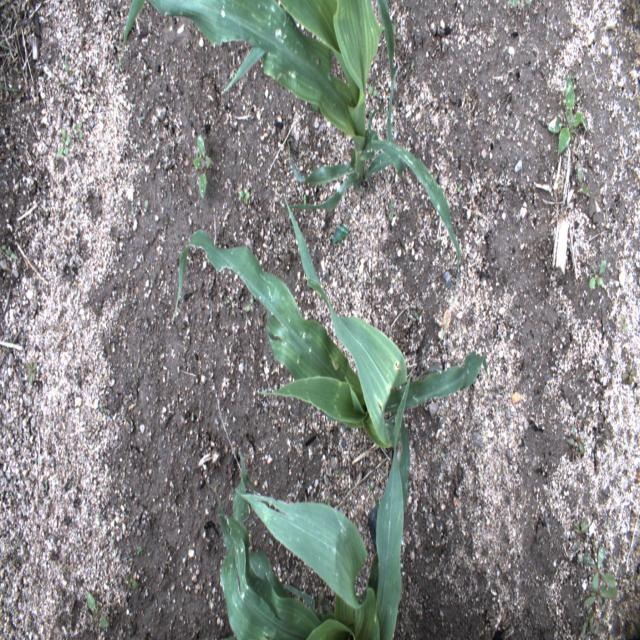crop: (170, 213, 496, 639), (117, 0, 460, 288), (219, 454, 379, 638)
weed: (544, 70, 589, 166), (581, 539, 621, 613), (188, 130, 218, 201), (81, 586, 111, 634), (0, 27, 18, 99), (587, 258, 614, 300), (562, 419, 586, 466), (571, 506, 591, 557), (501, 1, 536, 28), (575, 166, 595, 202), (54, 129, 76, 161), (618, 353, 637, 388), (126, 553, 140, 597), (330, 223, 353, 247), (577, 619, 605, 638), (235, 184, 255, 210), (24, 352, 38, 389), (1, 241, 22, 264), (62, 47, 74, 83), (384, 199, 398, 227), (450, 174, 464, 202), (137, 196, 152, 222), (407, 308, 428, 326), (74, 120, 86, 145)
